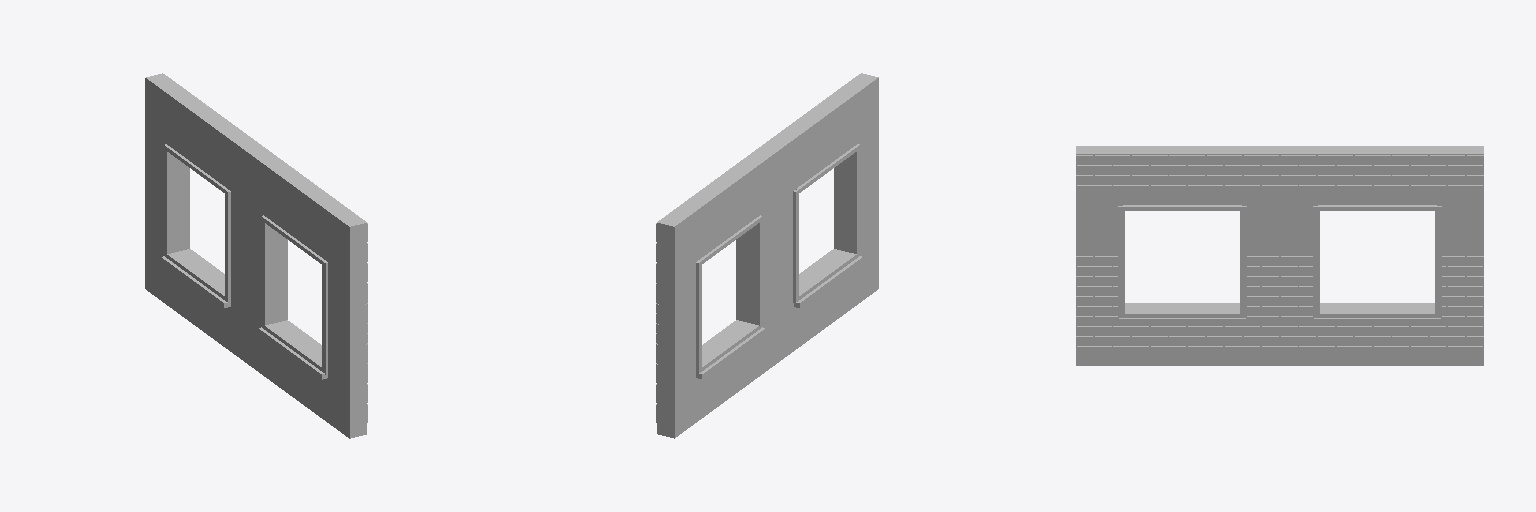
File: wall_with_windows.obj
The picture shows the model from 3 angles: view 1: azimuth 30°, elevation 25°; view 2: azimuth 150°, elevation 25°; view 3: azimuth 270°, elevation 25°; orthographic projection.
Parts seen in each view (by area): view 1: VisualWall_Cube.038, VisualWindowsillLeft.001_Cube.040, VisualWindowsillLeft_Cube.039; view 2: VisualWall_Cube.038, VisualWindowsillLeft.001_Cube.040, VisualWindowsillLeft_Cube.039; view 3: VisualWall_Cube.038, VisualWindowsillLeft_Cube.039, VisualWindowsillLeft.001_Cube.040.
Part boxes in pixels (bbox=[...]): VisualWall_Cube.038: bbox=[145, 73, 367, 438]; VisualWindowsillLeft.001_Cube.040: bbox=[258, 215, 327, 379]; VisualWindowsillLeft_Cube.039: bbox=[161, 144, 230, 307]; VisualWall_Cube.038: bbox=[656, 73, 878, 438]; VisualWindowsillLeft.001_Cube.040: bbox=[793, 144, 862, 307]; VisualWindowsillLeft_Cube.039: bbox=[696, 215, 765, 379]; VisualWall_Cube.038: bbox=[1076, 146, 1483, 365]; VisualWindowsillLeft_Cube.039: bbox=[1313, 205, 1441, 323]; VisualWindowsillLeft.001_Cube.040: bbox=[1118, 205, 1246, 323].
Size of the model in its own units: 0.4367 by 3 by 5.25.